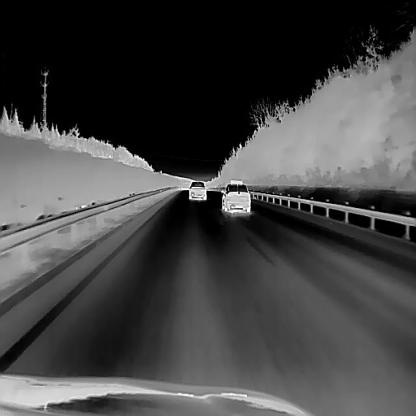car: (220, 178, 250, 212), (188, 180, 206, 199)
